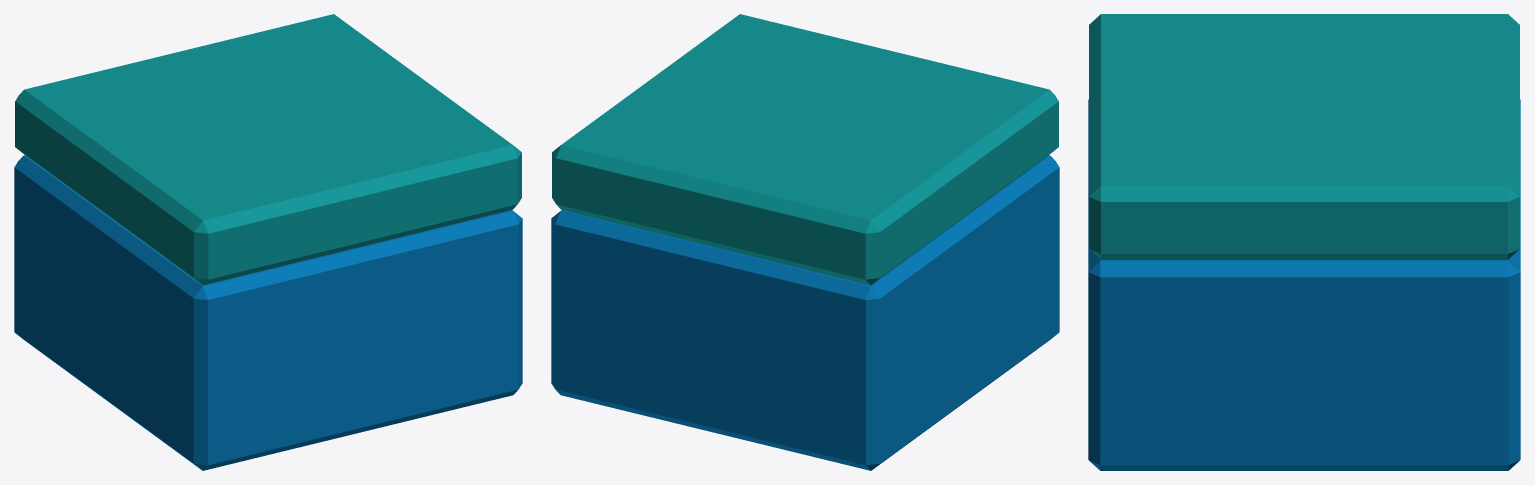
Rendered from FishBox.fbx.
3 renders of one model, left to right at view 1: azimuth 30°, elevation 25°; view 2: azimuth 150°, elevation 25°; view 3: azimuth 270°, elevation 25°, orthographic. The views are drawn at different scales.
Parts seen in each view (by area): view 1: Plane, Plane.001; view 2: Plane, Plane.001; view 3: Plane.001, Plane.
Boxes of the visible parts, x1,y1,x2,y2 form: Plane: (14, 155, 522, 470); Plane.001: (15, 14, 521, 285); Plane: (551, 155, 1059, 470); Plane.001: (552, 14, 1058, 285); Plane.001: (1089, 14, 1519, 259); Plane: (1088, 99, 1520, 470).
Bounding box in the file's own units: 200 × 145 × 200.
